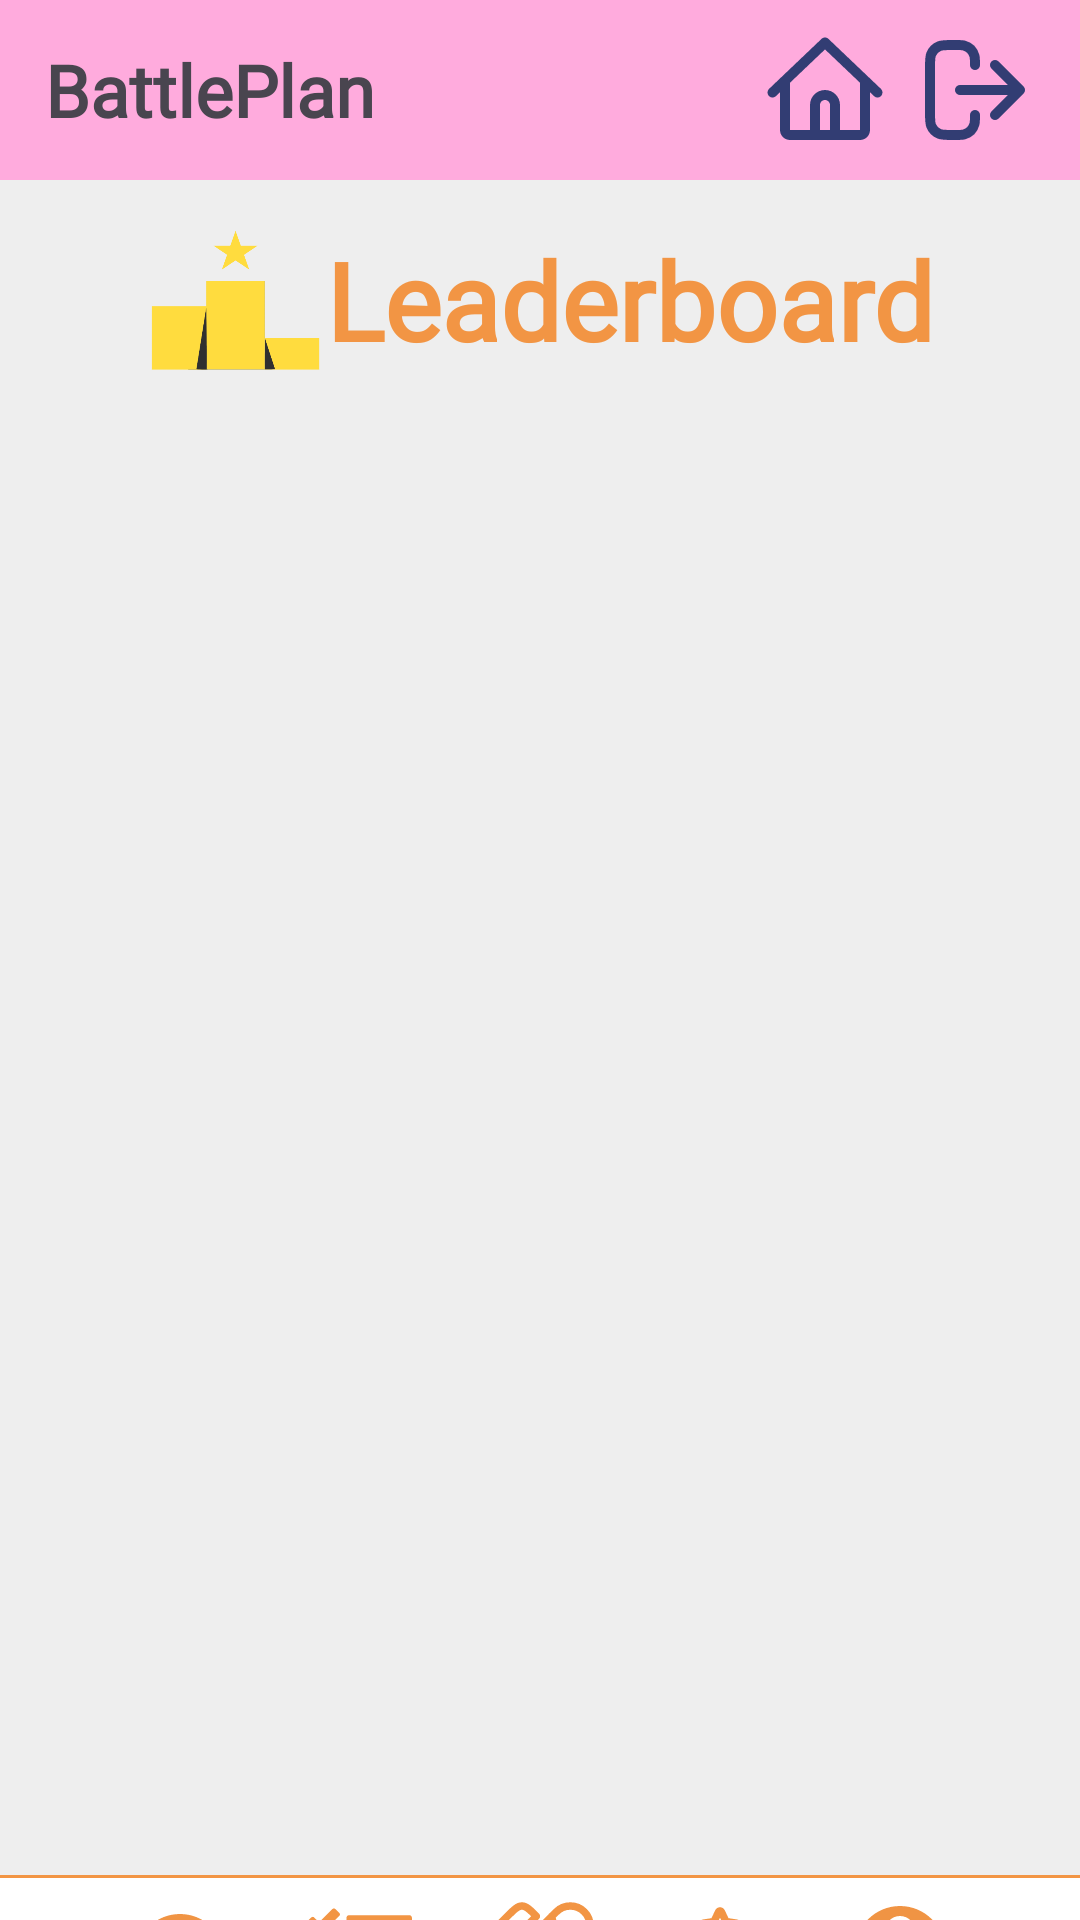

Icons on this 1080px x 1920px Android screen, each with the point to tap as [x,y]:
home: [825,88]
log out: [975,90]
